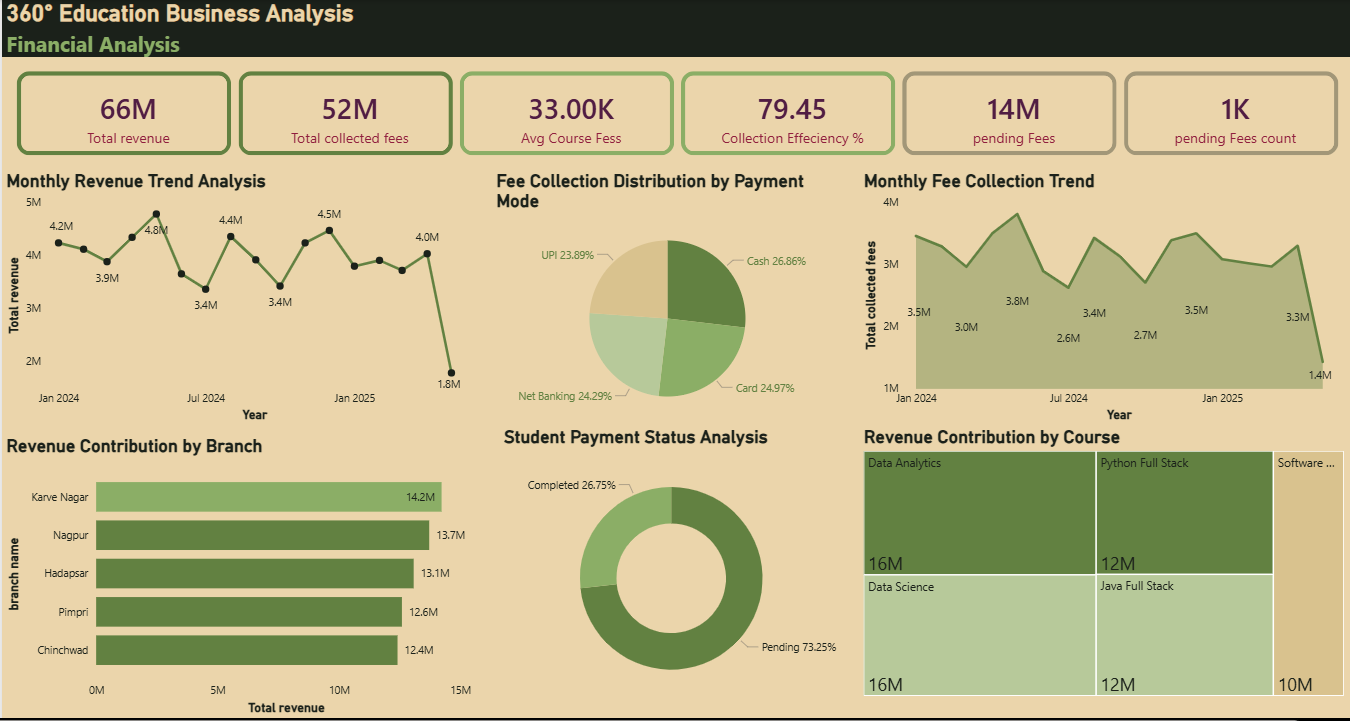

Layout of this report page (visuals, bound fields, positions):
{"tool":"powerbi","page":{"name":"Financial analysis","canvas":[1600,900],"ordinal":3},"visuals":[{"type":"lineChart","title":"Monthly Revenue Trend Analysis","fields":{"Y":["Revenue Measures.Total revenue"],"Category":["Admissions.admission date.Variation.Date Hierarchy.Year","Admissions.admission date.Variation.Date Hierarchy.Month"]},"box":[0,195.7,542.9,292.9],"z":0},{"type":"stackedAreaChart","title":"Monthly Fee Collection Trend","fields":{"Category":["Admissions.admission date.Variation.Date Hierarchy.Year","Admissions.admission date.Variation.Date Hierarchy.Month"],"Y":["Revenue Measures.Total collected fees"]},"box":[980,195.7,558.6,292.9],"z":1000},{"type":"clusteredBarChart","title":"Revenue Contribution by Branch","fields":{"Category":["Branches.branch name"],"Y":["Revenue Measures.Total revenue"]},"box":[0,498.6,560,324.3],"z":2000},{"type":"donutChart","title":"Student Payment Status Analysis","fields":{"Y":["CountNonNull(Students.student id)"],"Category":["Fees.payment status"]},"box":[568.6,488.6,392.9,324.3],"z":3000},{"type":"treemap","title":"Revenue Contribution by Course","fields":{"Group":["Courses.course name"],"Values":["Revenue Measures.Total revenue"]},"box":[980,488.6,558.6,312.9],"z":4000},{"type":"pieChart","title":"Fee Collection Distribution by Payment Mode","fields":{"Category":["Fees.payment mode"],"Y":["Revenue Measures.Total collected fees"]},"box":[560,195.7,401.4,292.9],"z":5000},{"type":"cardVisual","fields":{"Data":["Revenue Measures.Total revenue","Revenue Measures.Total collected fees","Revenue Measures.Avg Course Fess","Revenue Measures.Collection Effeciency %","Revenue Measures.pending Fees","Revenue Measures.pending Fees count"]},"box":[0,65.7,1544.3,130],"z":6000},{"type":"textbox","title":"360° Education Business Analysis","box":[0,0,1544.3,65.7],"z":7000}]}

Visuals, with their boxes on the page's 1600x900 design canvas (x1, y1, x2, y2). These are canvas units, not pixel positions in the 1350x721 screenshot, which may show the page scaled, cropped or inside an application window:
"Monthly Revenue Trend Analysis" lineChart: bbox(0, 196, 543, 489)
"Monthly Fee Collection Trend" stackedAreaChart: bbox(980, 196, 1539, 489)
"Revenue Contribution by Branch" clusteredBarChart: bbox(0, 499, 560, 823)
"Student Payment Status Analysis" donutChart: bbox(569, 489, 962, 813)
"Revenue Contribution by Course" treemap: bbox(980, 489, 1539, 802)
"Fee Collection Distribution by Payment Mode" pieChart: bbox(560, 196, 961, 489)
cardVisual - Revenue Measures.Total revenue x Revenue Measures.Total collected fees: bbox(0, 66, 1544, 196)
"360° Education Business Analysis" textbox: bbox(0, 0, 1544, 66)
